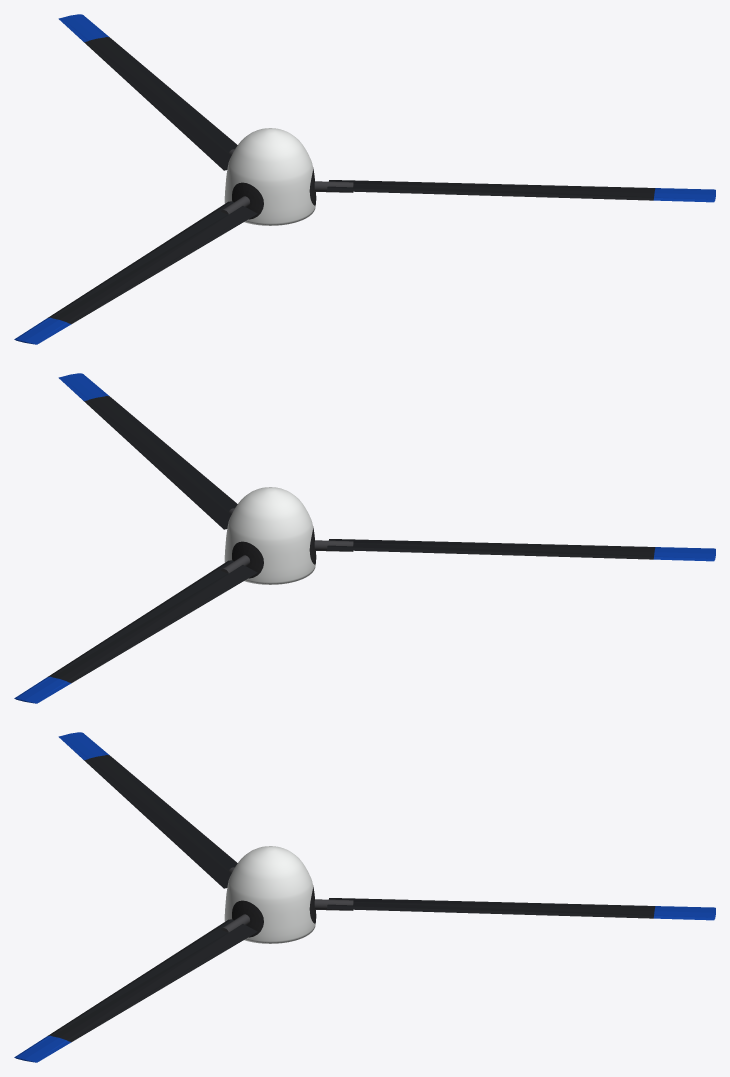
The model's file is rotor_2.glb.
3 views of the same model, one above another, from view 1: azimuth 30°, elevation 25°; view 2: azimuth 150°, elevation 25°; view 3: azimuth 270°, elevation 25° (orthographic).
Visible parts, largest first — view 1: rotor_2; view 2: rotor_2; view 3: rotor_2.
Boxes of the visible parts, x1,y1,x2,y2 form: rotor_2: (14, 14, 715, 344); rotor_2: (14, 373, 715, 703); rotor_2: (14, 732, 715, 1062).
Bounding box in the file's own units: 4.97 × 0.5303 × 4.45.
